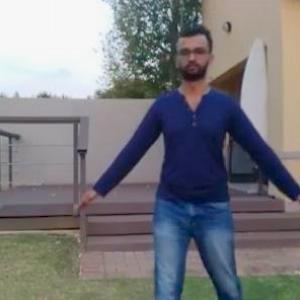land: (100, 52, 279, 299)
